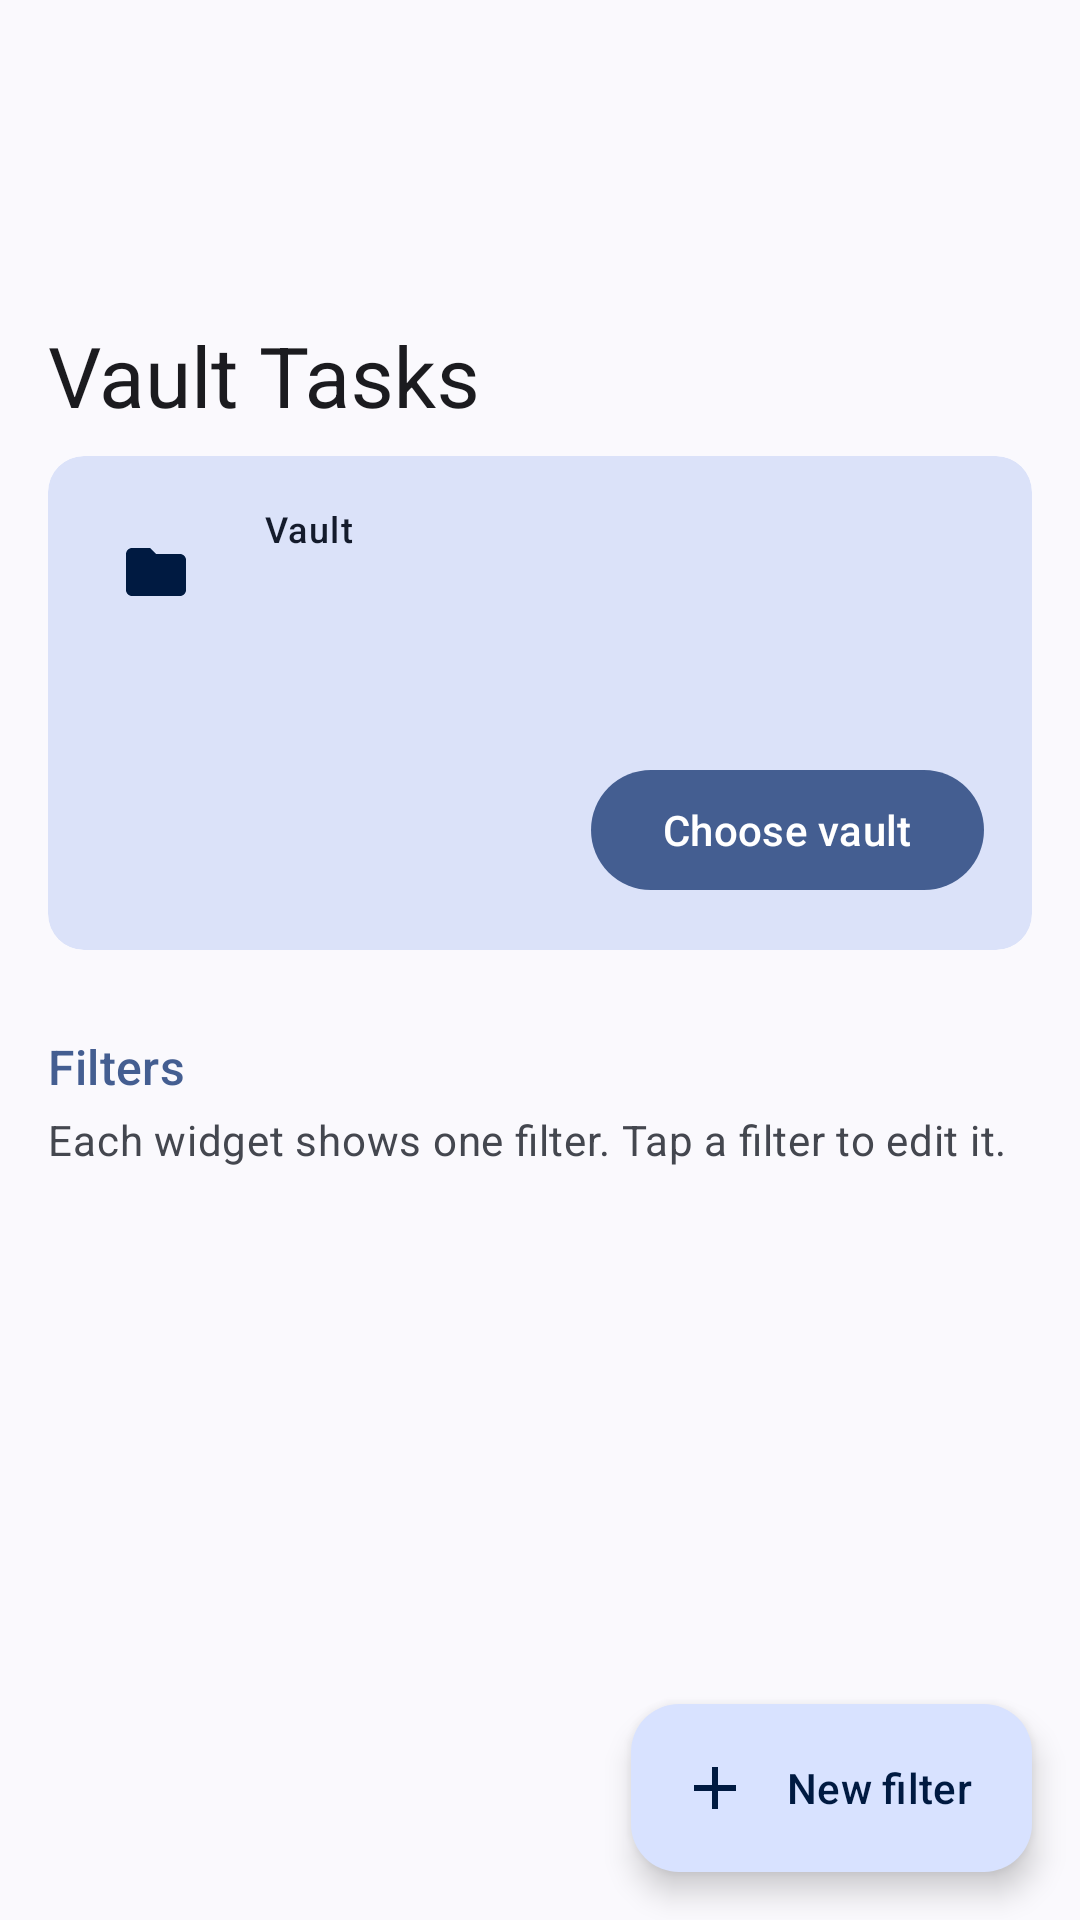

Icon bounding boxes for this 1080×1920 phone screenshot, format (x1, y1, x2, y2):
folder: (126, 548, 186, 596)
